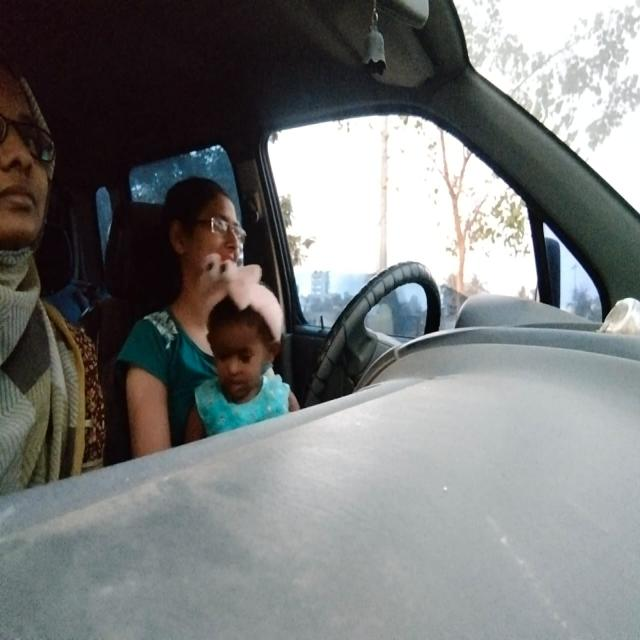child: (197, 278, 279, 404)
person: (2, 58, 58, 241), (160, 181, 255, 268)
